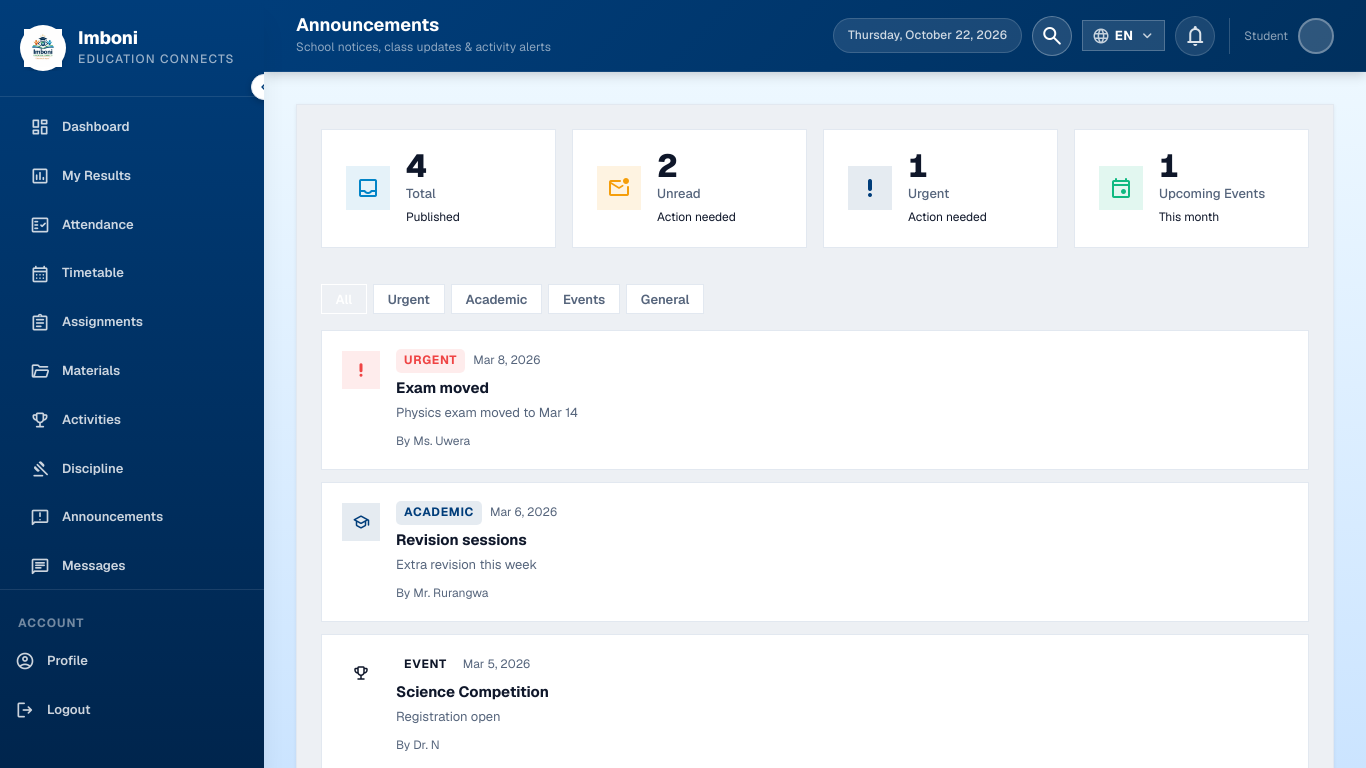
StudentAnnouncements › filters by chip category
Expected: the heading "Exam moved" is shown, [396, 378, 489, 397]
Click the button "Urgent". click: [409, 299]
box: [373, 284, 445, 314]
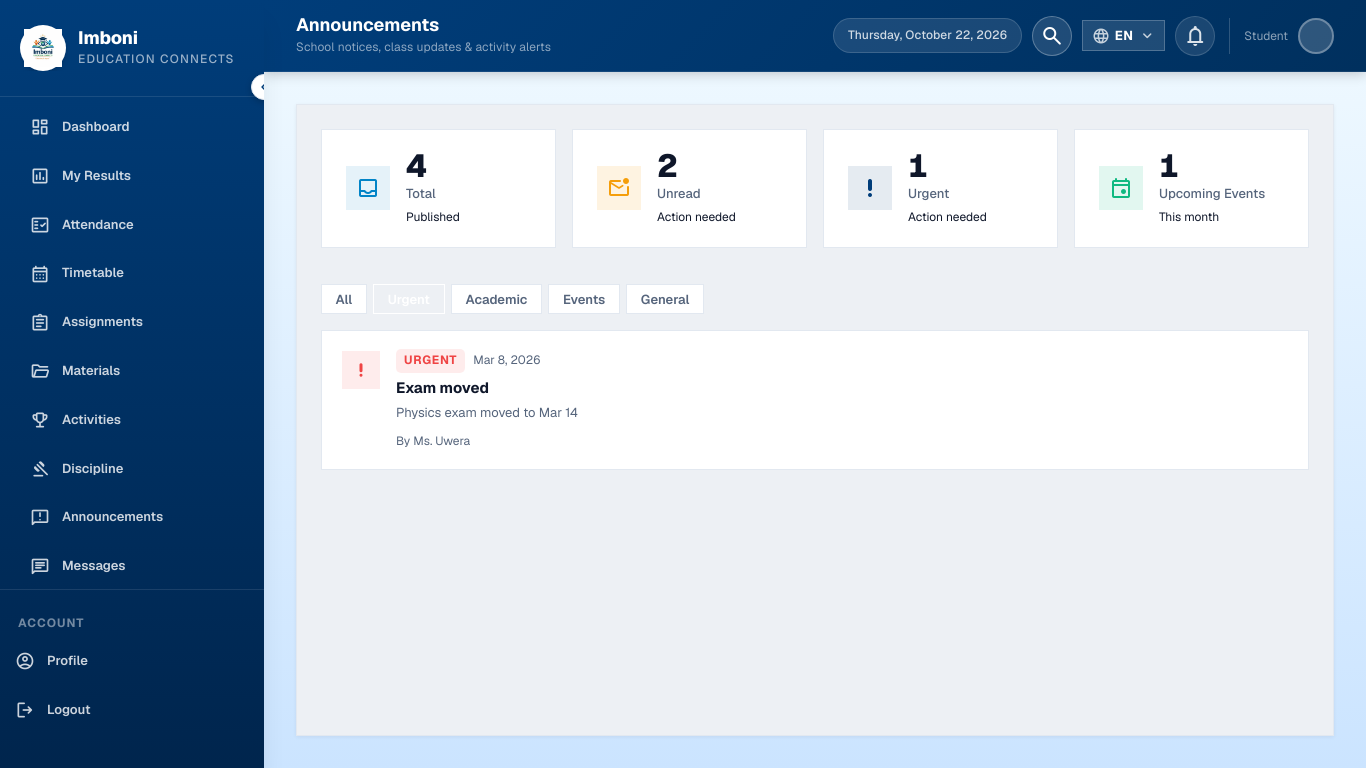
Expected: the heading "Exam moved" is shown, [396, 378, 489, 397]
Expected: the heading "Revision sessions" is gone
Expected: the heading "Science Competition" is gone
